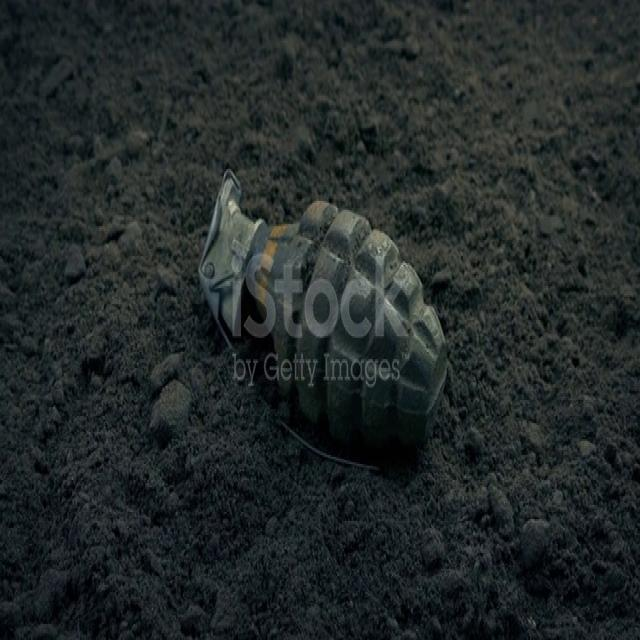grenade: (200, 163, 448, 473)
